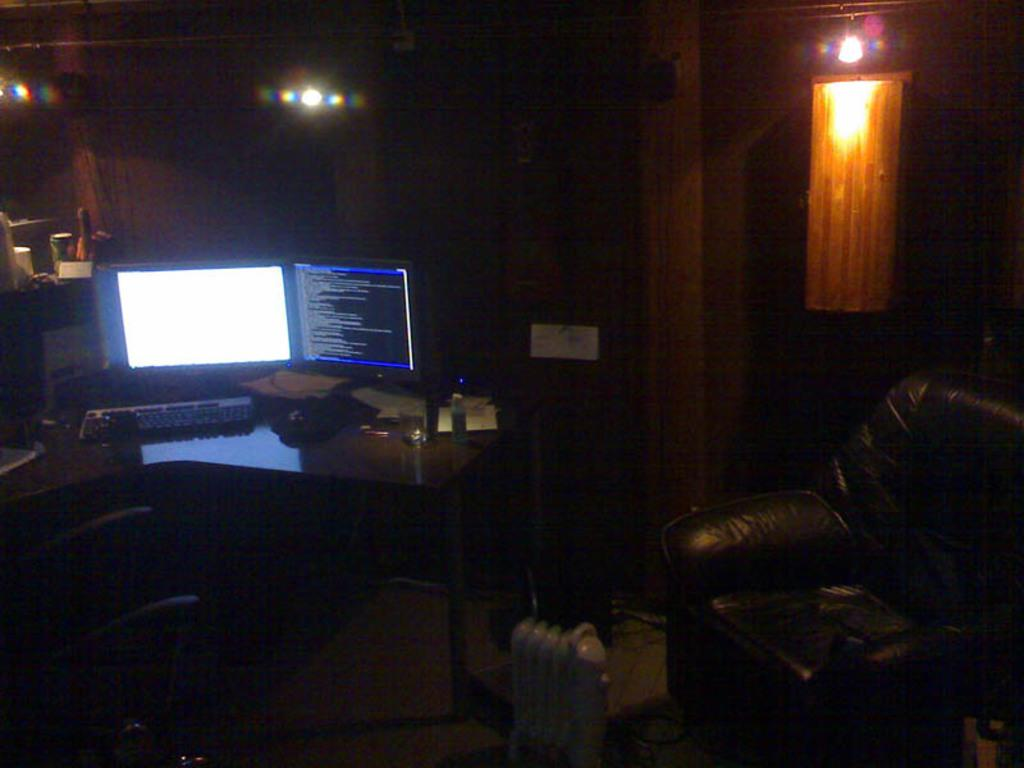Computer-monitor: (109, 260, 300, 381), (292, 252, 422, 380)
